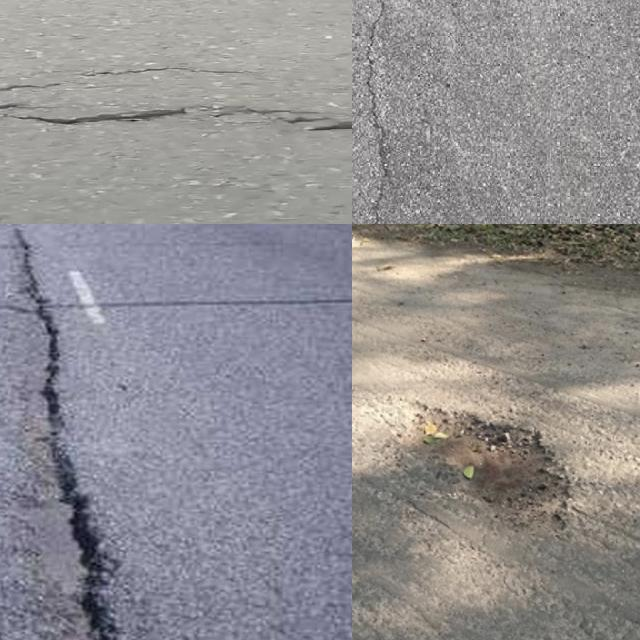Lubang: (406, 403, 561, 521)
Melintang: (0, 73, 352, 153)
Memanjang: (0, 224, 134, 640), (352, 0, 402, 224)
